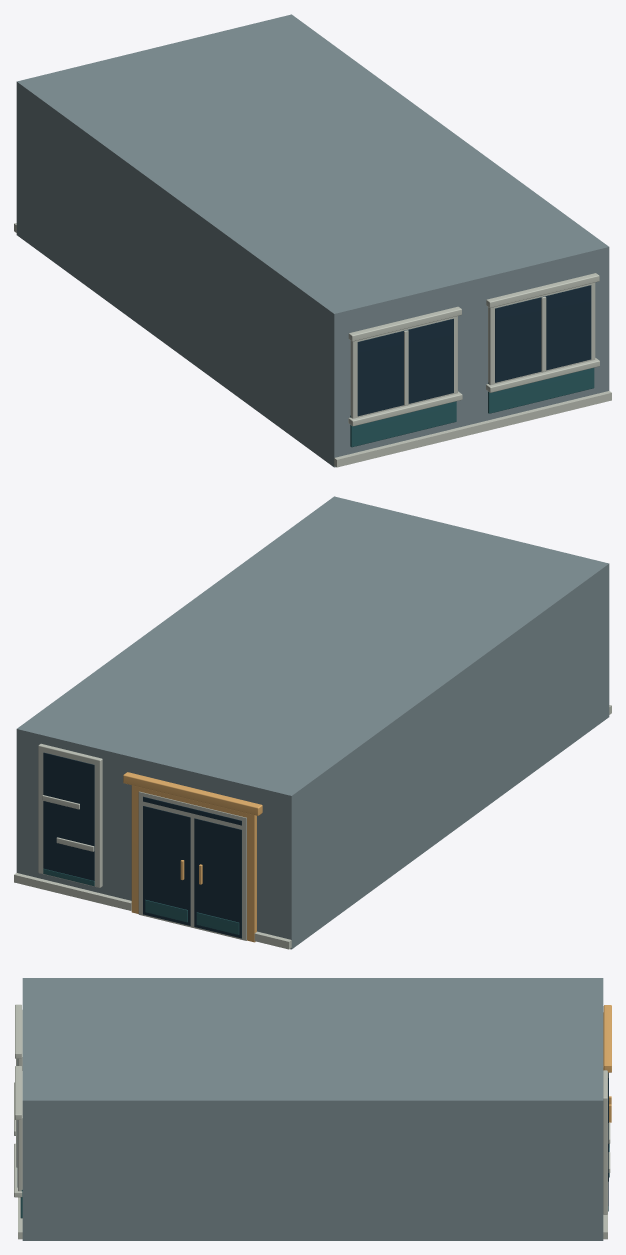
The model's file is d03_apartment_family_08.glb.
The picture shows the model from 3 angles, top to bottom: view 1: azimuth 30°, elevation 25°; view 2: azimuth 150°, elevation 25°; view 3: azimuth 270°, elevation 25°; orthographic projection. The views are drawn at different scales.
Parts seen in each view (by area): view 1: D03ApartmentFamily08_Mesh; view 2: D03ApartmentFamily08_Mesh; view 3: D03ApartmentFamily08_Mesh.
Part boxes in pixels (x1=…): D03ApartmentFamily08_Mesh: x1=14, y1=14, x2=611, y2=467; D03ApartmentFamily08_Mesh: x1=14, y1=496, x2=611, y2=949; D03ApartmentFamily08_Mesh: x1=14, y1=978, x2=611, y2=1240.
Bounding box in the file's own units: 6 × 3.2 × 12.36.
